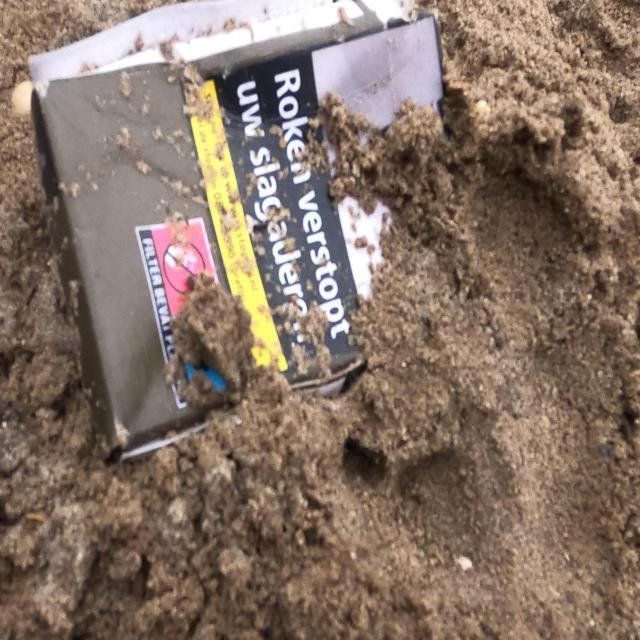Paper: (25, 0, 477, 469)
